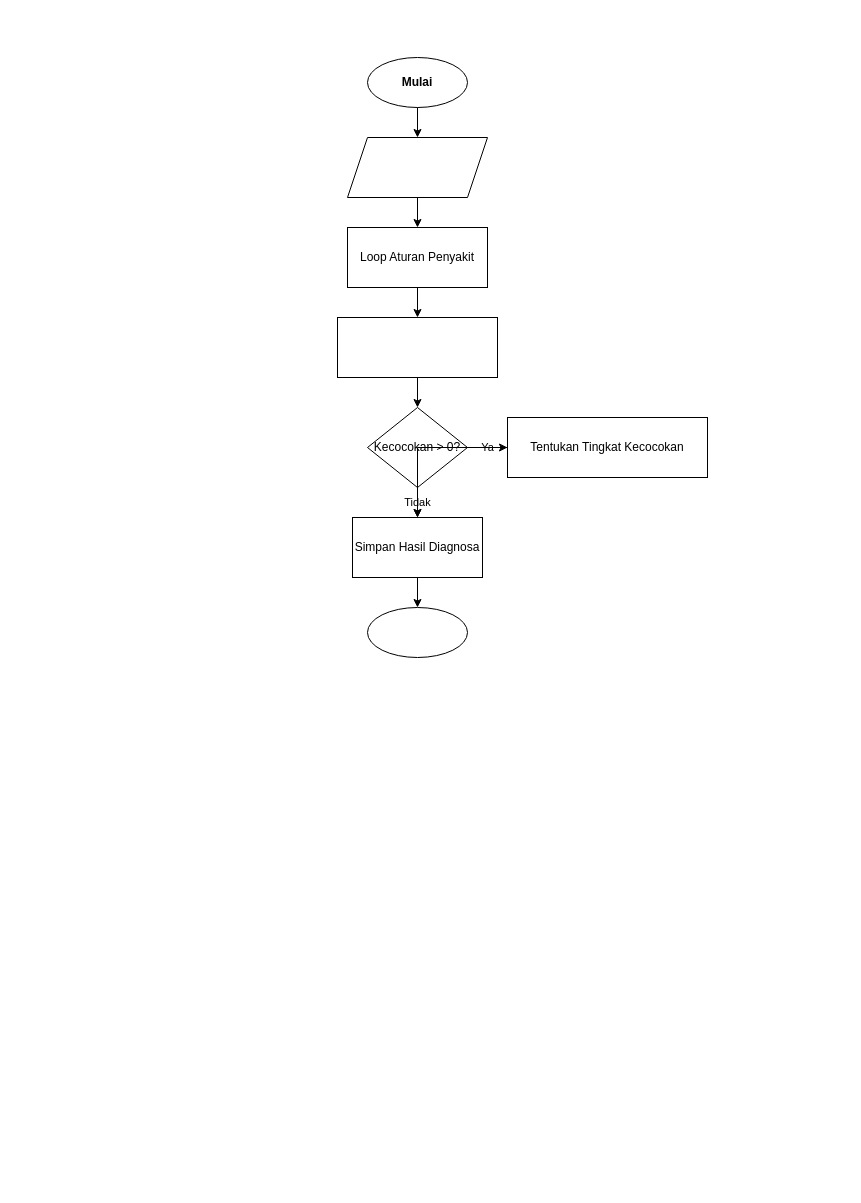
This 861x1203 diagram has some shape labels left out. The shapes that lost their labels are listed below. From the top down, each one's box as (x1, y1, x2, y2) in pixels, then its label:
(346, 136, 488, 198): Ambil Input Gejala
(336, 316, 498, 378): Hitung Kecocokan Gejala
(366, 606, 468, 658): Selesai
